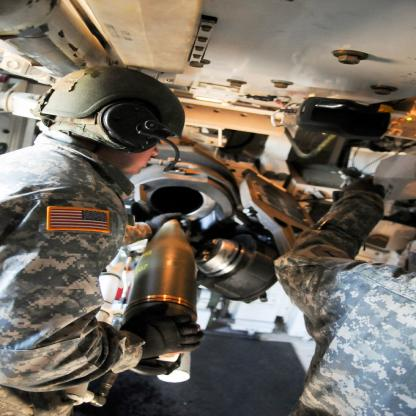Helmet: (32, 65, 176, 159)
